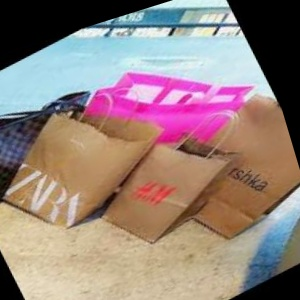bershka: (56, 59, 300, 285)
zara: (58, 82, 101, 181)
